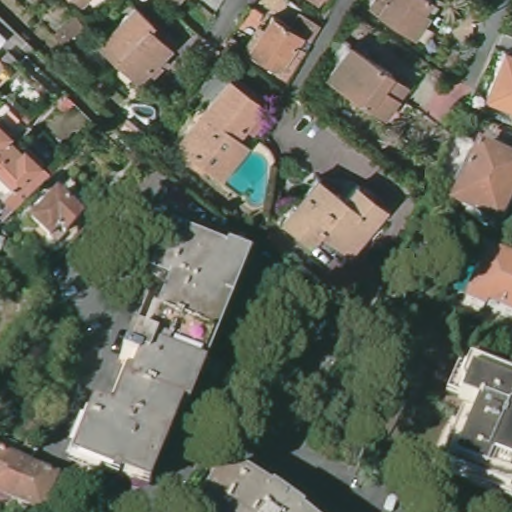pool: (225, 146, 272, 212)
